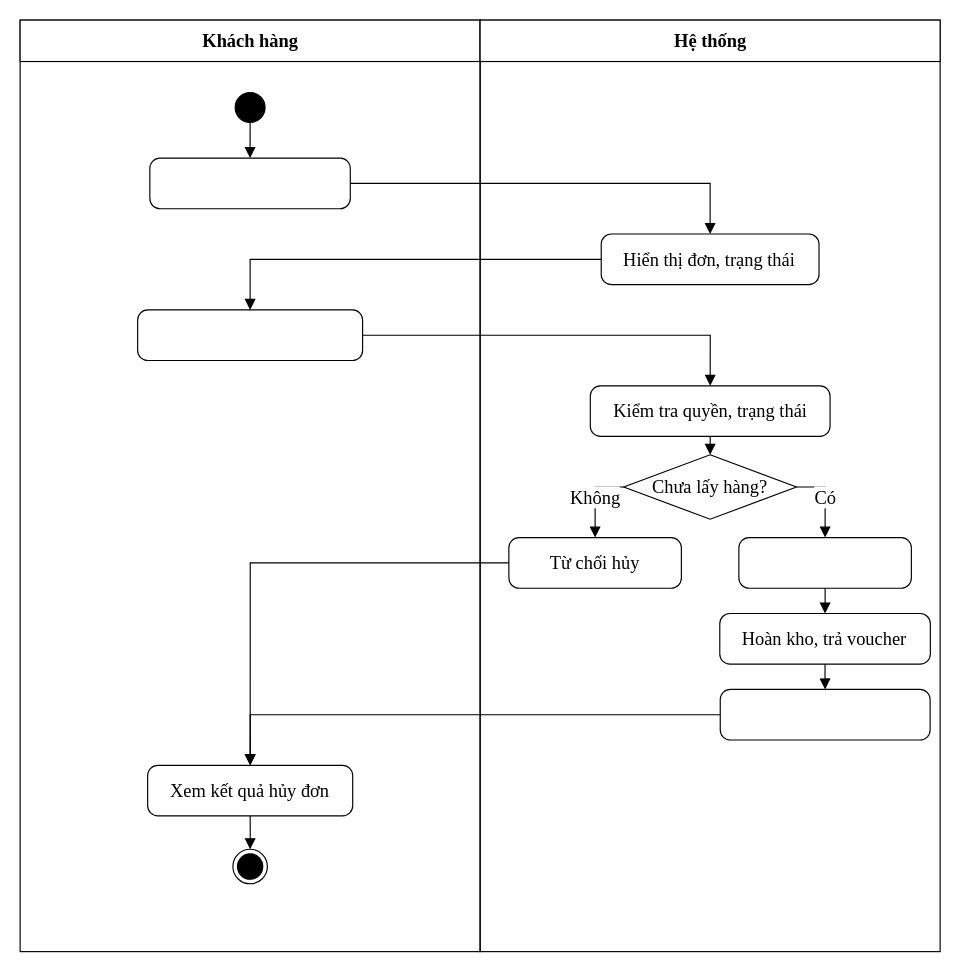
Some shapes in this 960 by 972 pixel diagram are drawn without their labels. The shapes that lost their labels are listed below. From the top down, each one's box as (x1, y1, x2, y2) in pixels, then its label:
(149, 157, 350, 209): Mở chi tiết đơn hàng
(137, 309, 363, 361): Bấm Hủy đơn, xác nhận
(738, 536, 911, 588): Chuyển Đã hủy
(719, 688, 930, 740): Ghi lịch sử, thông báo
